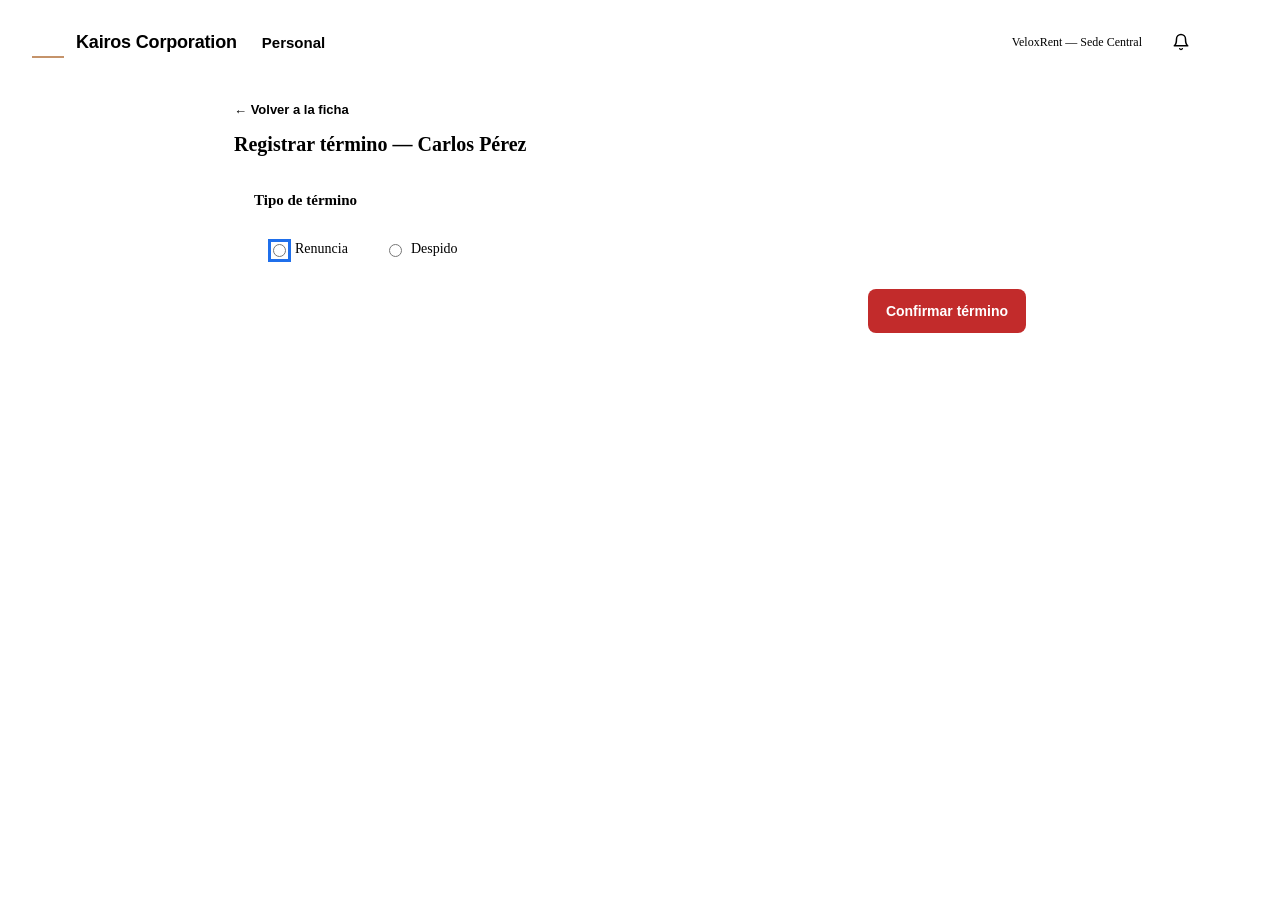
it: TerminationScreen (ADP-09) › confirmacion reforzada: aviso de vacante, irreversible y checkbox antes de confirmar
This screenshot has width=1280, height=900.
Step 1. Click the radio button labelled "Renuncia" → click(280, 250), box [273,244,286,257]
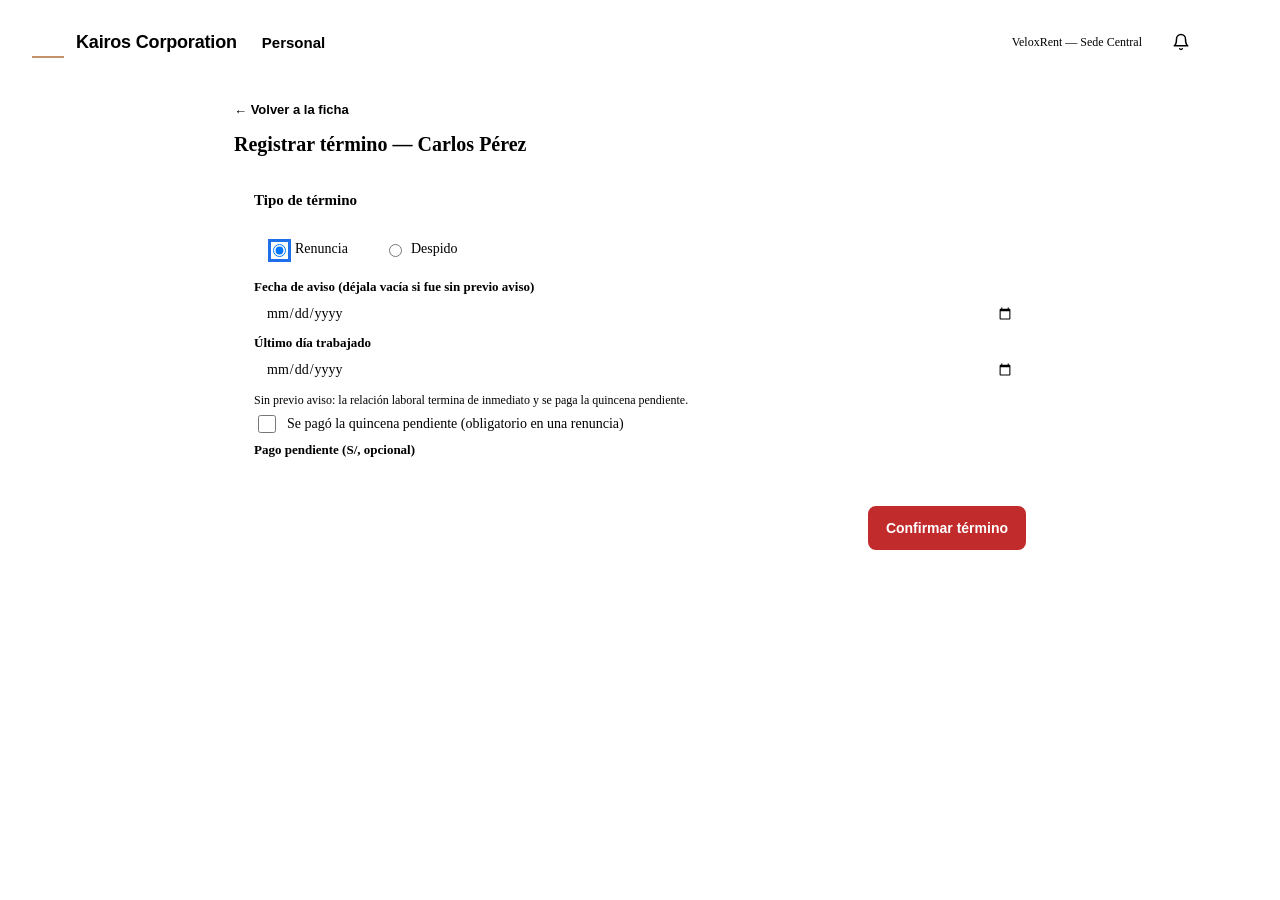
Step 2. Type "2026-10-09" into the date field labelled "Último día trabajado" → (640, 370), box [254,351,1026,389]
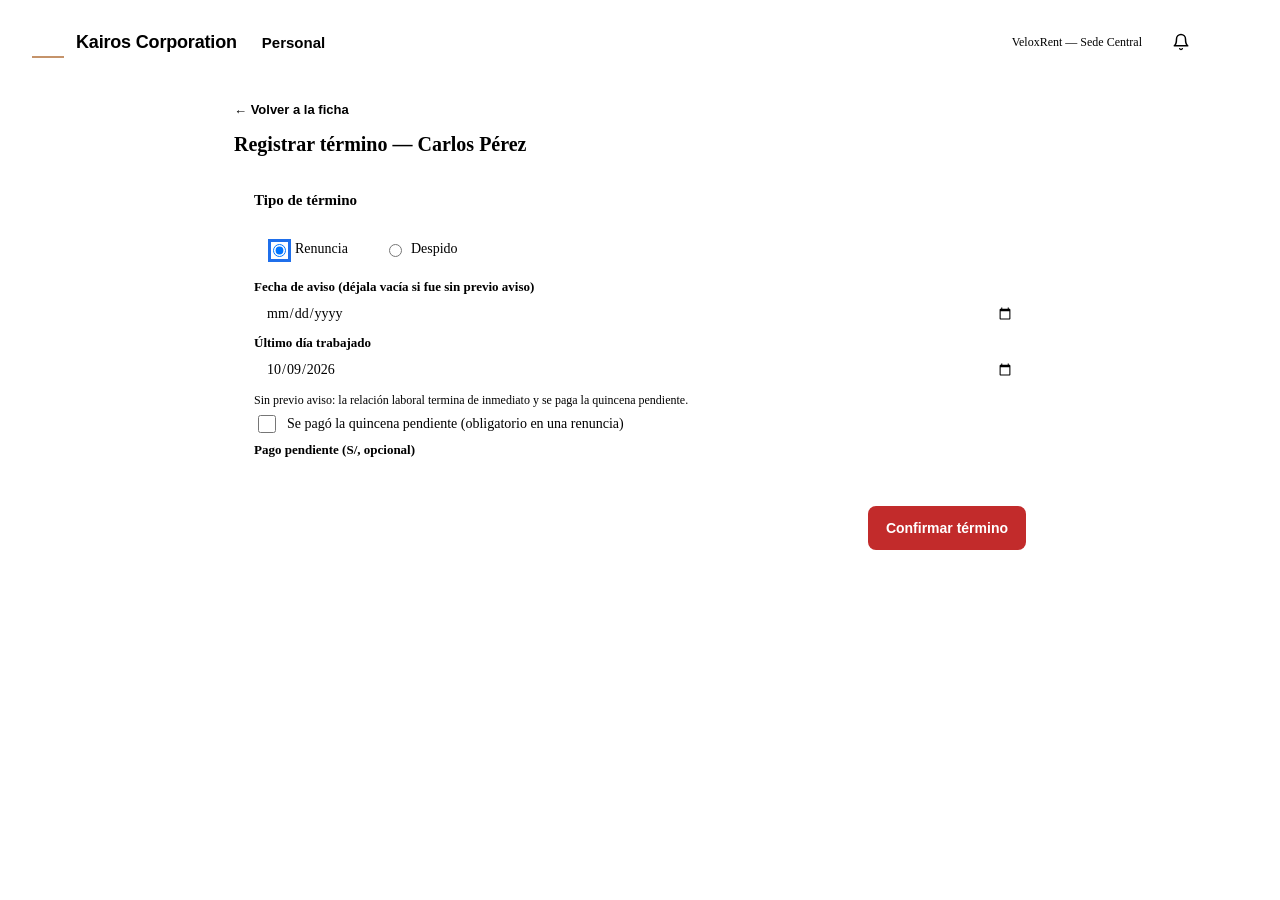
Step 3. Click the checkbox labelled "Se pagó la quincena pendiente (obligatorio en una renuncia)" → click(267, 424), box [258,415,276,433]
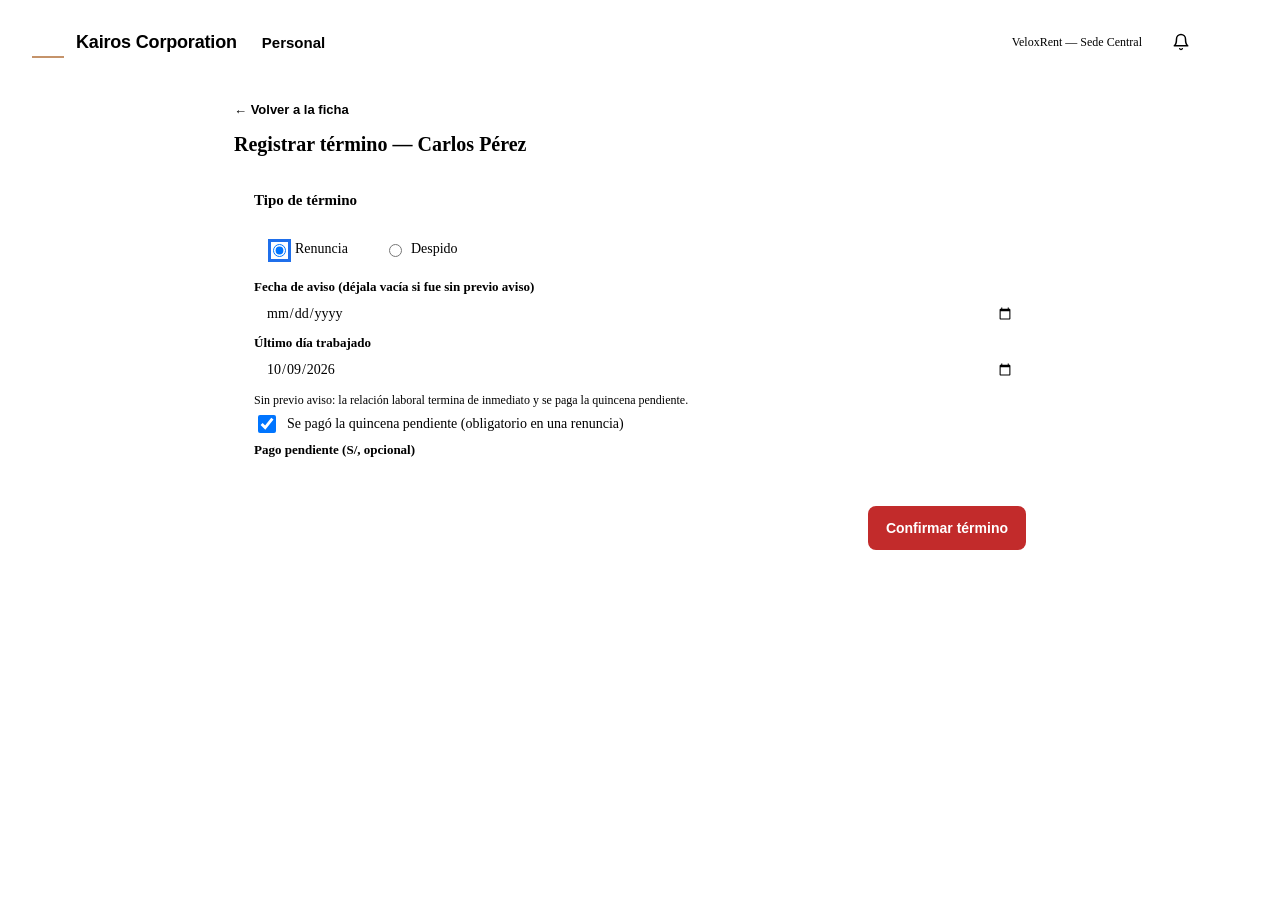
Step 4. Click the button "Confirmar término" → click(947, 528), box [868,506,1026,550]
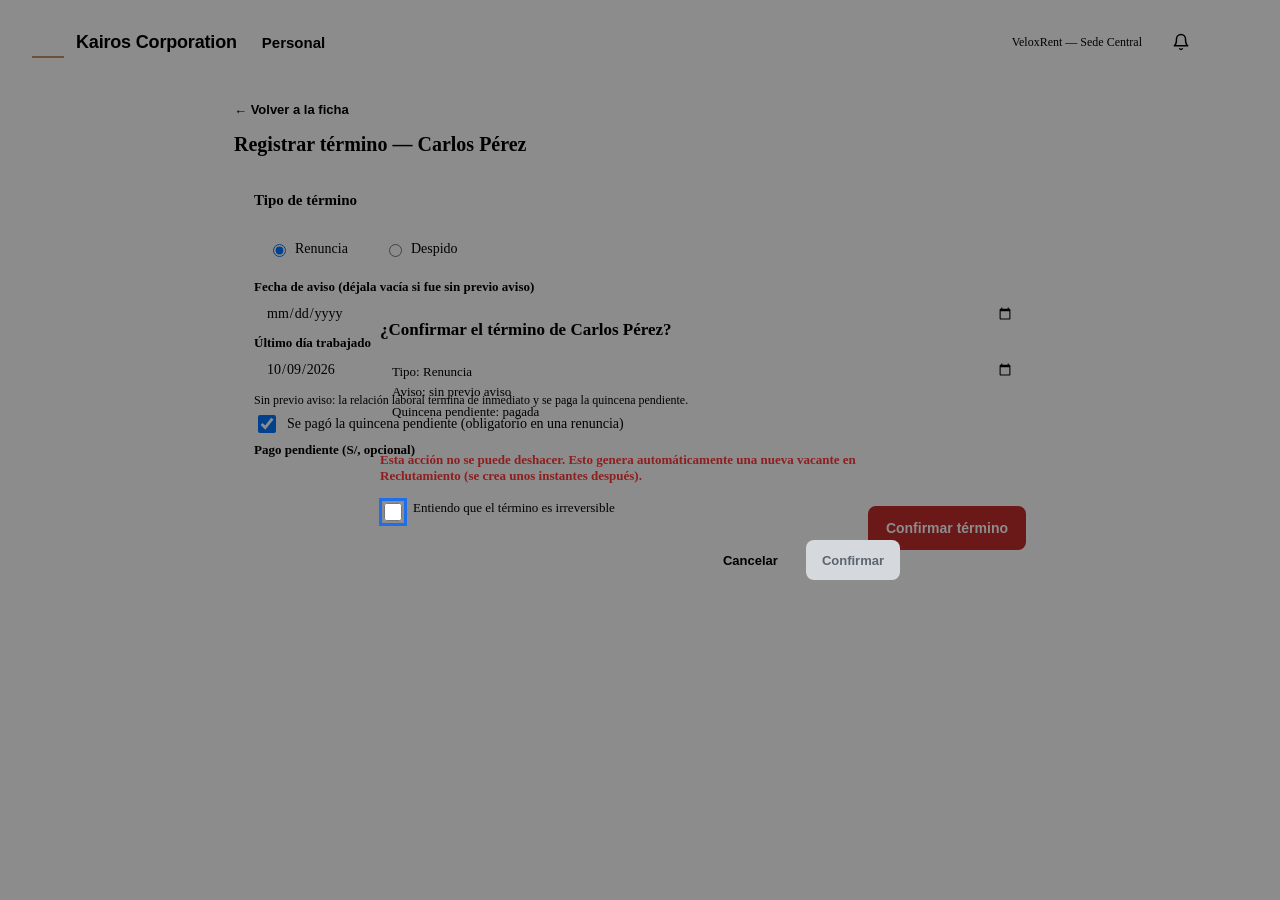
Expected: the text "no se puede deshacer" is shown, [380,452,856,483]
Expected: the button "Confirmar" is disabled, [806,540,900,580]
Step 5. Click the checkbox labelled "Entiendo que el término es irreversible" → click(393, 512), box [384,503,402,521]
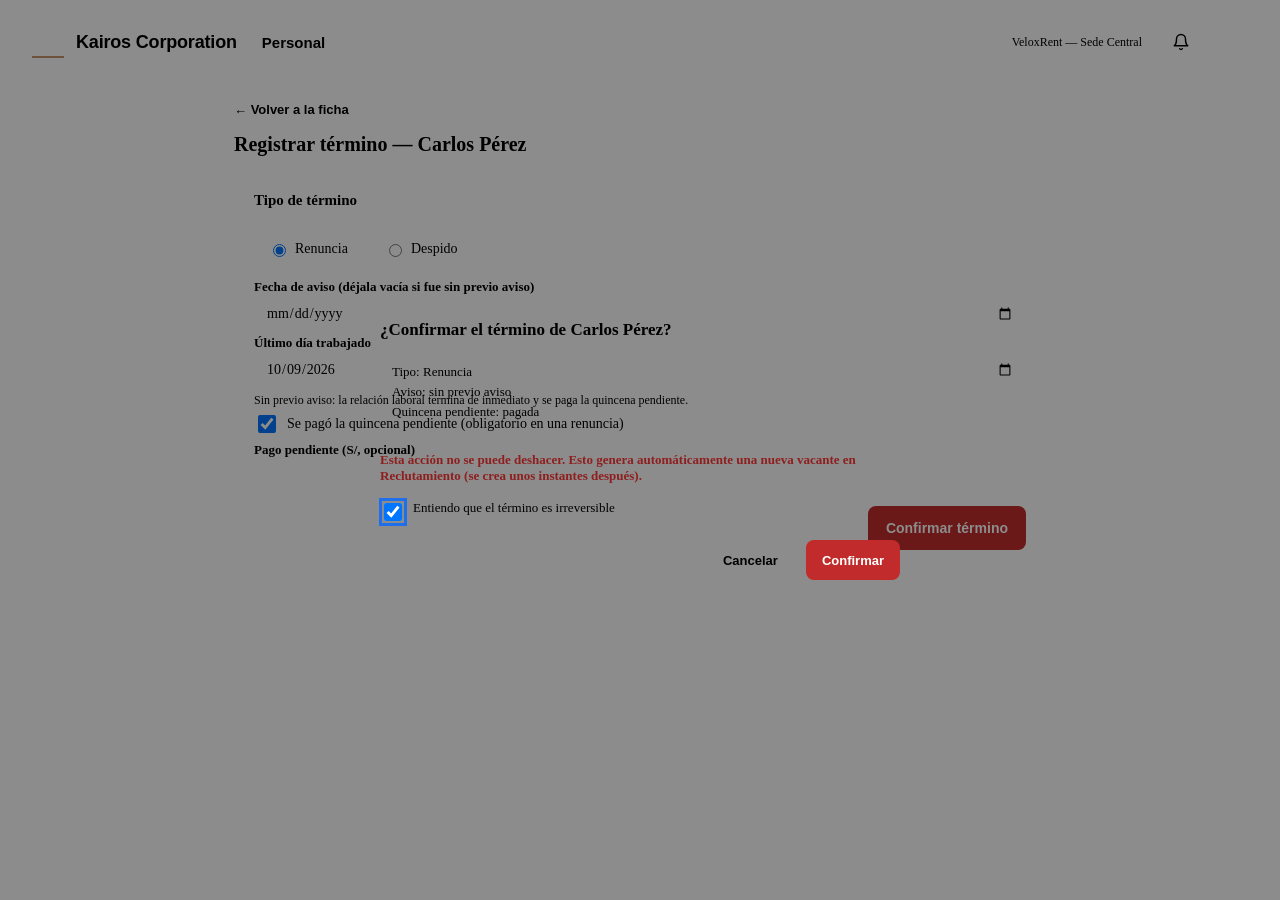
Step 6. Click the button "Confirmar" → click(853, 560), box [806,540,900,580]
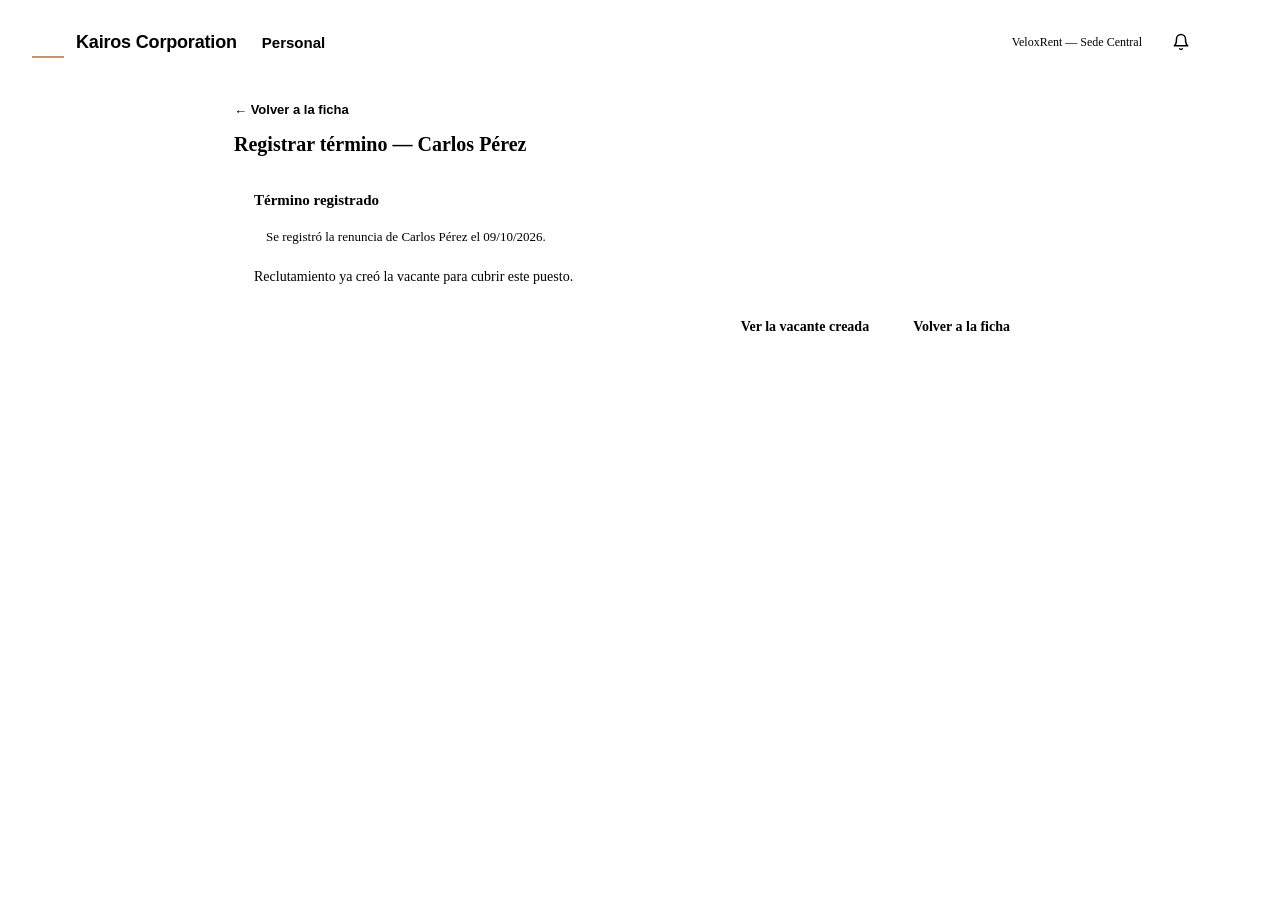
Expected: the text "Reclutamiento ya creó la vacante para cubrir este puesto." is shown, [254,269,573,284]
